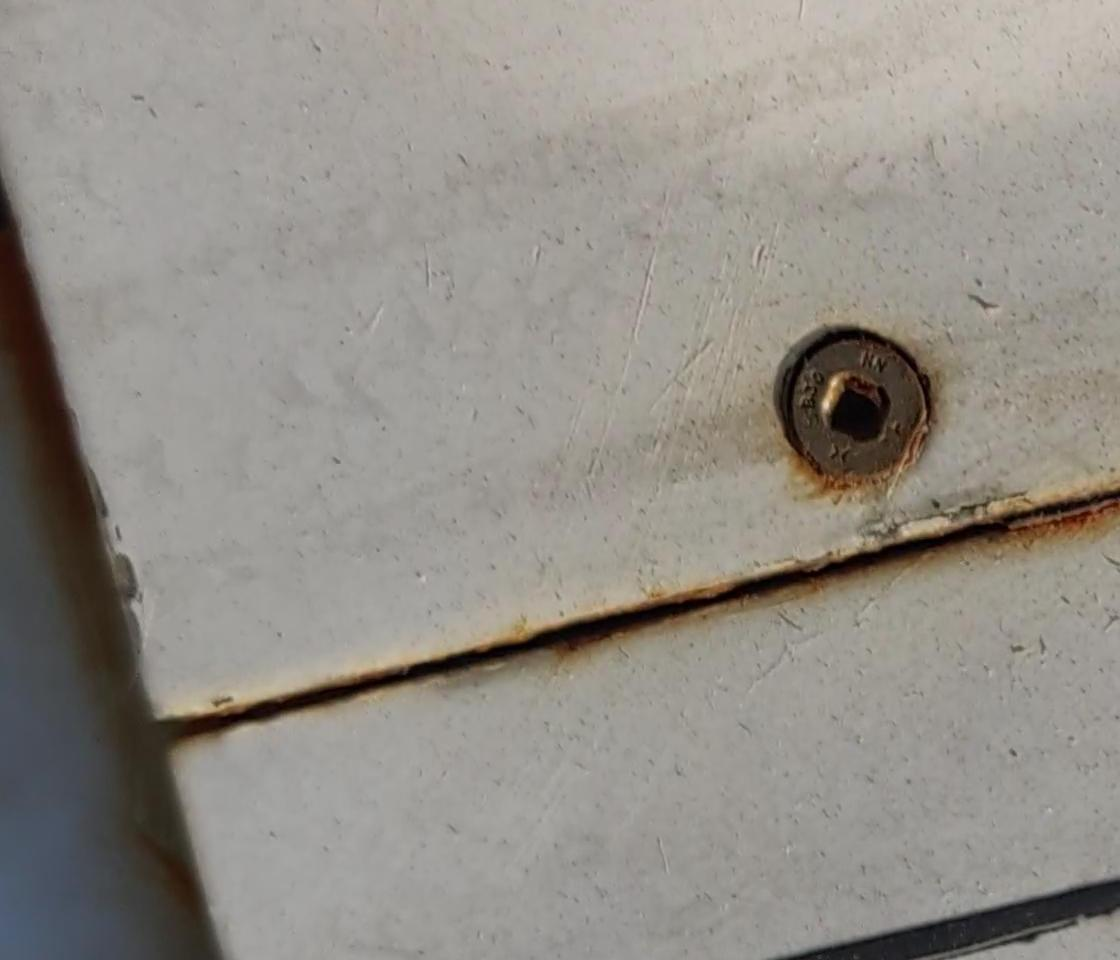rivet_damage: (763, 325, 945, 491)
